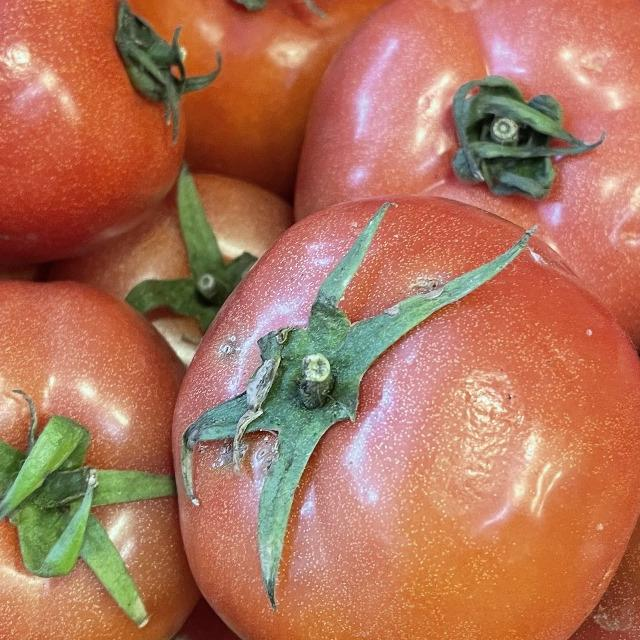tomato: (130, 137, 640, 640), (0, 257, 222, 640), (0, 0, 237, 280)
